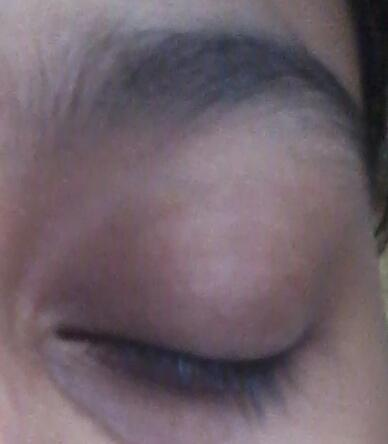close: (49, 175, 344, 429)
